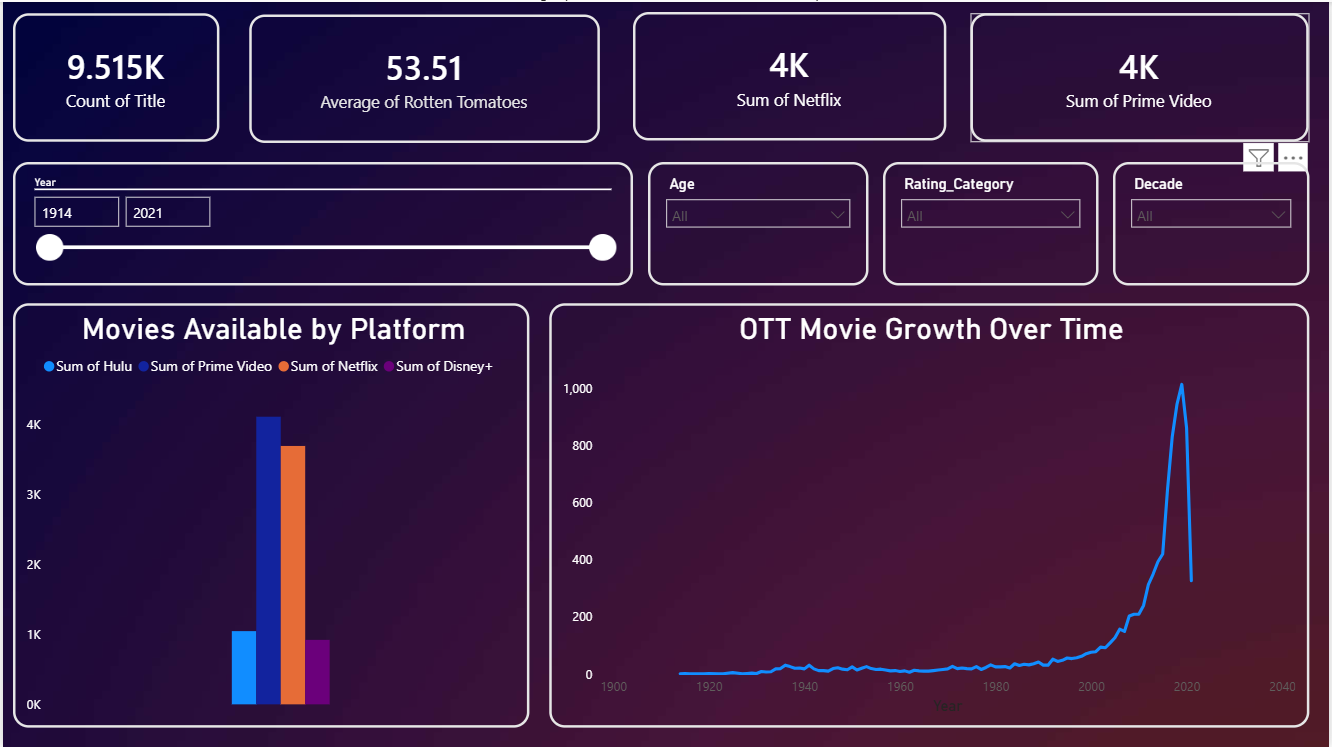

The dashboard page shown, as its layout file describes it:
{"tool":"powerbi","page":{"name":"Executive Overview","canvas":[1280,720],"ordinal":0},"visuals":[{"type":"cardVisual","title":"Total Movies","fields":{"Data":["Count(cleaned_ott_dataset.Title)"]},"box":[9.8,11.1,199.4,124.3],"z":0},{"type":"cardVisual","title":"Average Rating","fields":{"Data":["Avg(cleaned_ott_dataset.Rotten Tomatoes)"]},"box":[237.5,12.3,338.5,124.3],"z":1000},{"type":"cardVisual","title":"Prime Movies","fields":{"Data":["Sum(cleaned_ott_dataset.Prime Video)"]},"box":[934.2,11.1,326.2,124.3],"z":2000},{"type":"cardVisual","title":"Netflix Movies","fields":{"Data":["Sum(cleaned_ott_dataset.Netflix)"]},"box":[608,9.8,302.8,124.3],"z":3000},{"type":"clusteredColumnChart","title":"Movies Available by Platform","fields":{"Y":["Sum(cleaned_ott_dataset.Hulu)","Sum(cleaned_ott_dataset.Prime Video)","Sum(cleaned_ott_dataset.Netflix)","Sum(cleaned_ott_dataset.Disney+)"]},"box":[9.8,290.5,498.5,409.8],"z":4000},{"type":"lineChart","title":"OTT Movie Growth Over Time","fields":{"Category":["cleaned_ott_dataset.Year"],"Y":["Count(cleaned_ott_dataset.Title)"]},"box":[526.8,290.5,733.5,409.8],"z":5000},{"type":"slicer","fields":{"Values":["cleaned_ott_dataset.Year"]},"box":[9.8,153.8,598.2,119.4],"z":6000},{"type":"slicer","fields":{"Values":["cleaned_ott_dataset.Age"]},"box":[622.8,153.8,212.9,119.4],"z":7000},{"type":"slicer","fields":{"Values":["cleaned_ott_dataset.Rating_Category"]},"box":[849.2,153.8,208,119.4],"z":8000},{"type":"slicer","fields":{"Values":["cleaned_ott_dataset.Decade"]},"box":[1070.8,153.8,189.5,119.4],"z":9000}]}

Visuals, with their boxes in screenshot pixels (x1, y1, x2, y2), scaled from the page's 1280x720 canvas onto the 1332x747 screenshot:
"Total Movies" cardVisual: [left=10, top=12, right=218, bottom=140]
"Average Rating" cardVisual: [left=247, top=13, right=599, bottom=142]
"Prime Movies" cardVisual: [left=972, top=12, right=1312, bottom=140]
"Netflix Movies" cardVisual: [left=633, top=10, right=948, bottom=139]
"Movies Available by Platform" clusteredColumnChart: [left=10, top=301, right=529, bottom=727]
"OTT Movie Growth Over Time" lineChart: [left=548, top=301, right=1311, bottom=727]
slicer - cleaned_ott_dataset.Year: [left=10, top=160, right=633, bottom=283]
slicer - cleaned_ott_dataset.Age: [left=648, top=160, right=870, bottom=283]
slicer - cleaned_ott_dataset.Rating_Category: [left=884, top=160, right=1100, bottom=283]
slicer - cleaned_ott_dataset.Decade: [left=1114, top=160, right=1311, bottom=283]
